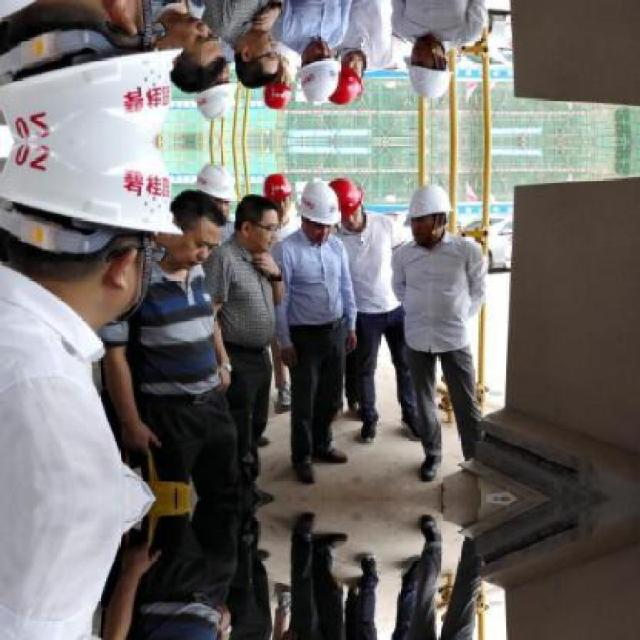helmet: (3, 142, 145, 322), (3, 0, 146, 137), (401, 178, 454, 240), (401, 37, 454, 98), (294, 182, 335, 243), (294, 34, 335, 95), (328, 166, 363, 231), (328, 46, 363, 111), (197, 58, 234, 117), (197, 160, 234, 218), (260, 63, 292, 111), (260, 168, 292, 215)
no_helmet: (165, 12, 217, 94), (165, 185, 217, 266), (229, 188, 282, 249), (229, 28, 282, 89)
